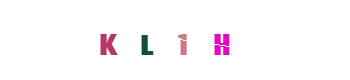1: (135, 0, 215, 80)
H: (182, 0, 262, 80)
K: (91, 0, 171, 80)
L: (105, 0, 185, 80)
